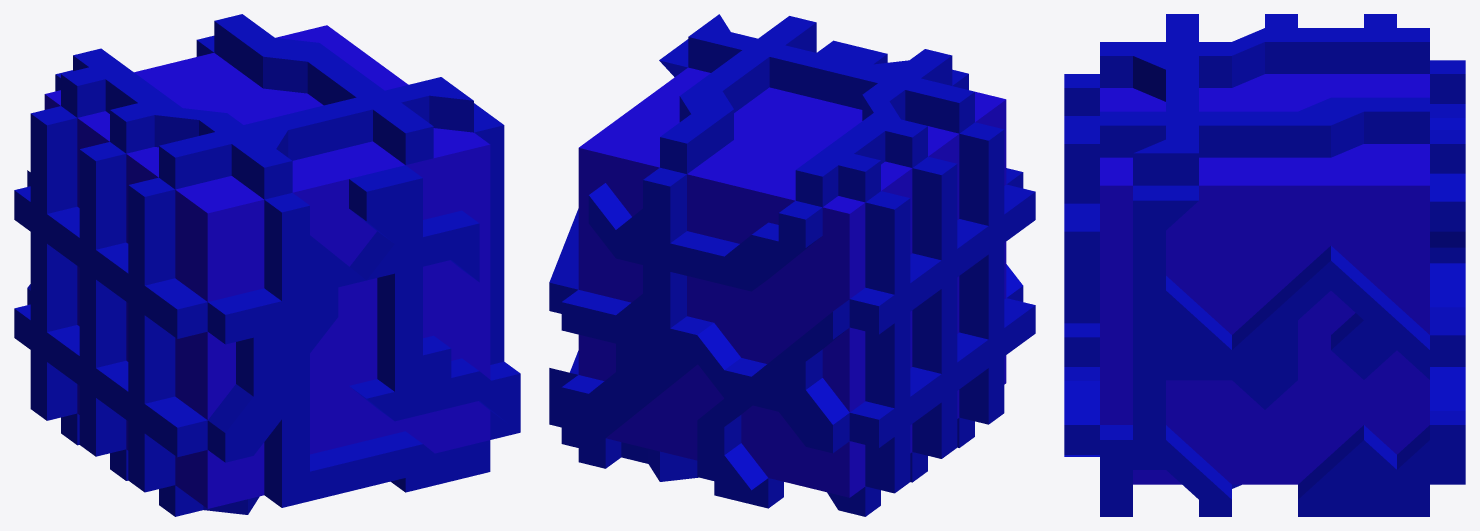
Rendered from deltmp.fbx.
3 renders of one model, left to right at view 1: azimuth 30°, elevation 25°; view 2: azimuth 150°, elevation 25°; view 3: azimuth 270°, elevation 25°, orthographic. The views are drawn at different scales.
Visible parts, largest first — view 1: outliner, Cube; view 2: outliner, Cube; view 3: outliner, Cube.
Part boxes in pixels (box(x1,y1,x2,y2)): outliner: box(14, 14, 520, 516); Cube: box(44, 25, 490, 508); outliner: box(549, 14, 1035, 516); Cube: box(578, 67, 1006, 497); outliner: box(1064, 14, 1465, 516); Cube: box(1100, 74, 1429, 484).
Size of the model in its own units: 2.43 by 2.43 by 2.43.
